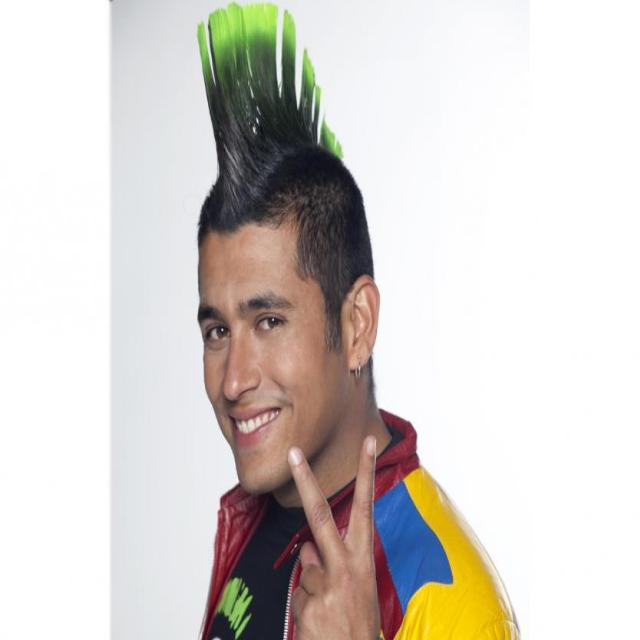human: (164, 2, 533, 640)
